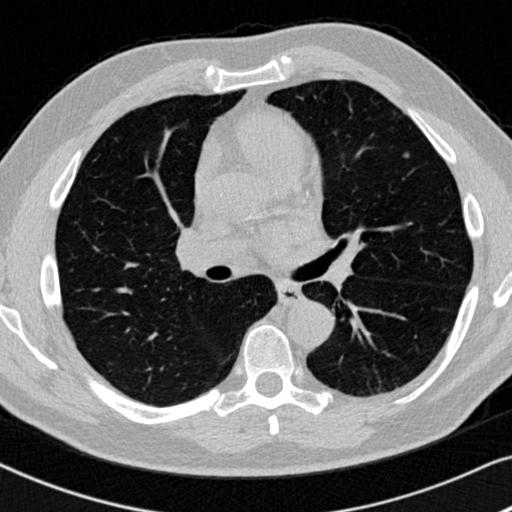nodule: (401, 150, 412, 161)
